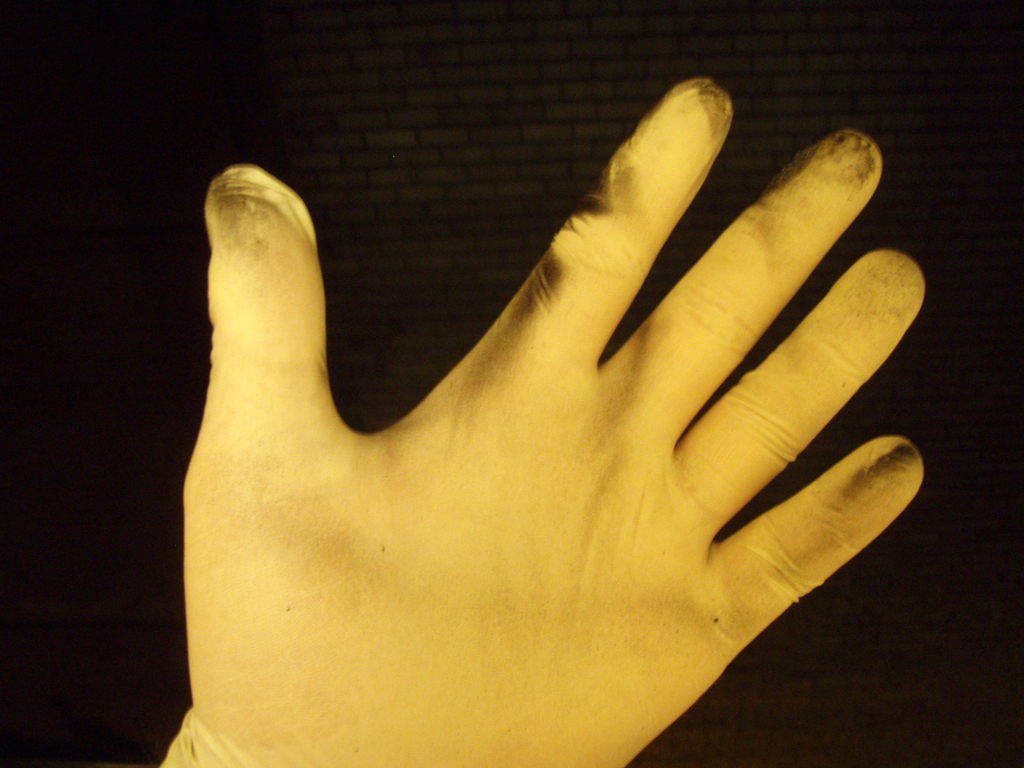Human_hand: (163, 76, 926, 768)
